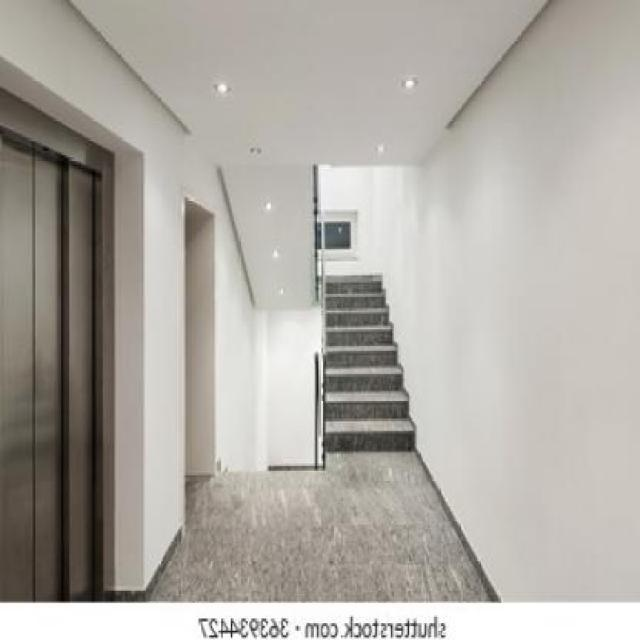stair: (304, 262, 411, 462)
